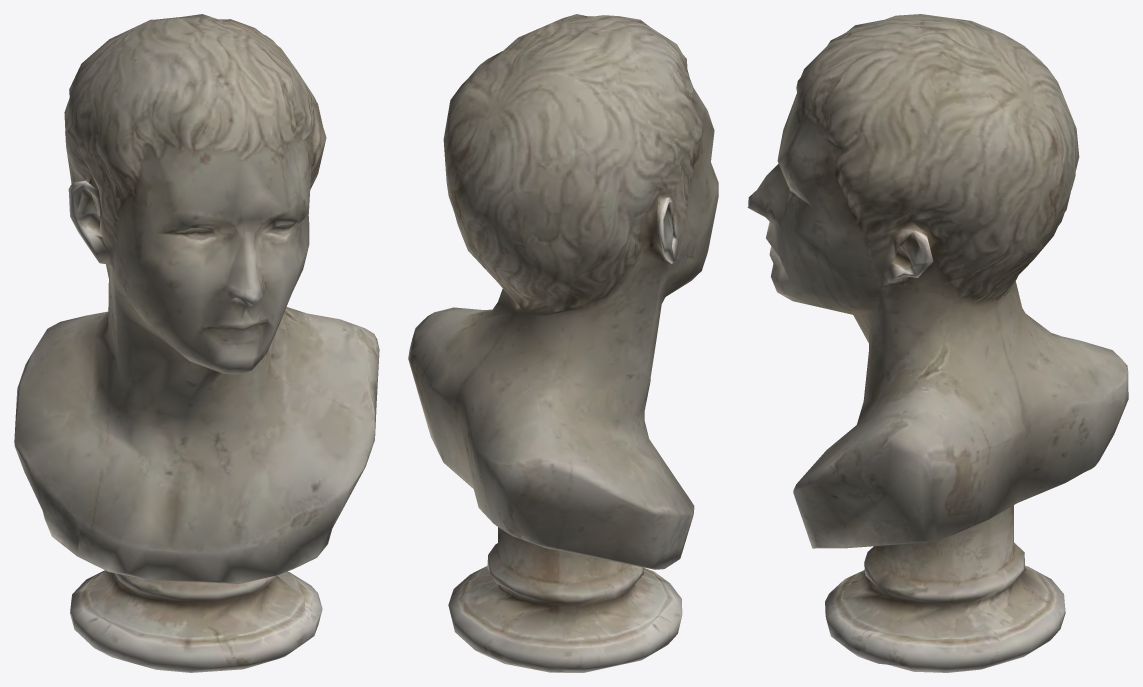
File: marble_bust_01.glb
The picture shows the model from 3 angles, left to right: view 1: azimuth 30°, elevation 25°; view 2: azimuth 150°, elevation 25°; view 3: azimuth 270°, elevation 25°; orthographic projection. The views are drawn at different scales.
Parts seen in each view (by area): view 1: marble_bust_01; view 2: marble_bust_01; view 3: marble_bust_01.
Boxes of the visible parts, left/top/right/bottom form: marble_bust_01: left=14, top=14, right=379, bottom=672; marble_bust_01: left=408, top=14, right=718, bottom=672; marble_bust_01: left=747, top=14, right=1128, bottom=672.
Size of the model in its own units: 0.2717 by 0.5147 by 0.2982.
Materials: 1 (1 with a texture image).
